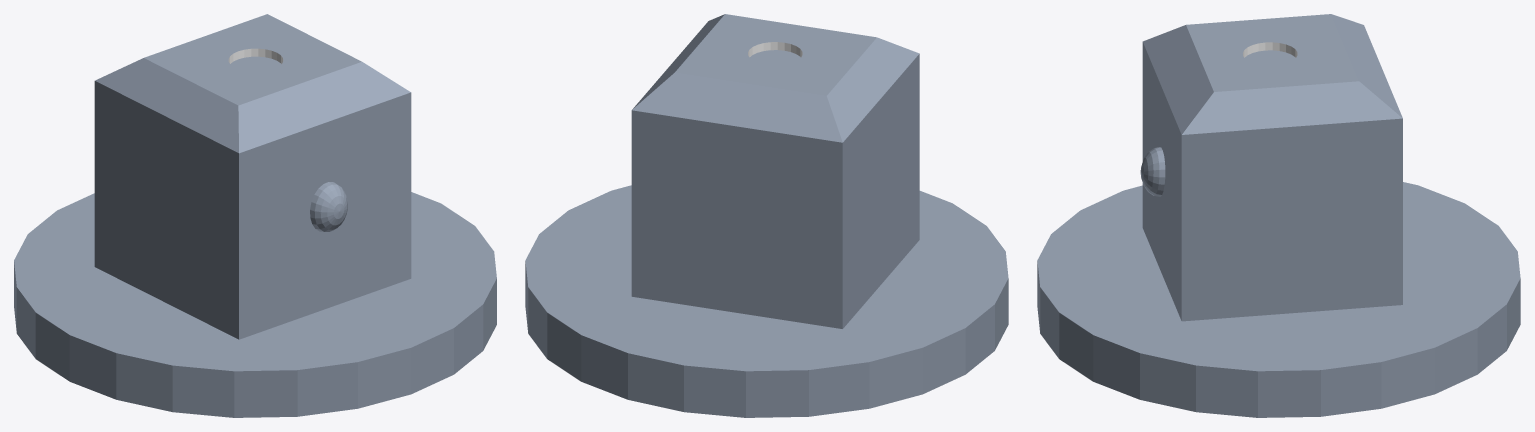
The model's file is outil 08.FBX.
The picture shows the model from 3 angles, left to right: view 1: azimuth 30°, elevation 25°; view 2: azimuth 150°, elevation 25°; view 3: azimuth 270°, elevation 25°; orthographic projection.
Parts seen in each view (by area): view 1: Mesh02; view 2: Mesh02; view 3: Mesh02.
Part boxes in pixels (left/top/right/bottom): Mesh02: left=14, top=14, right=496, bottom=417; Mesh02: left=525, top=14, right=1008, bottom=417; Mesh02: left=1037, top=14, right=1520, bottom=417.
Size of the model in its own units: 0.1506 by 0.0894 by 0.1506.
